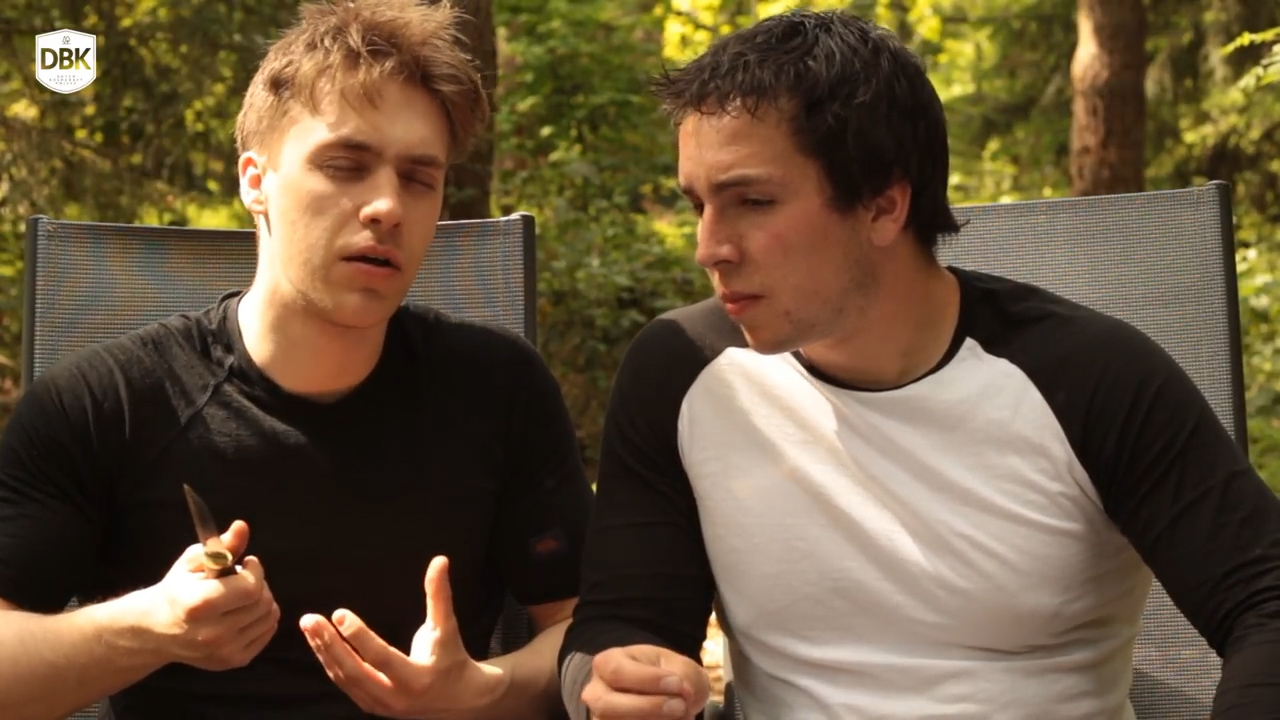knife: (155, 474, 287, 637)
